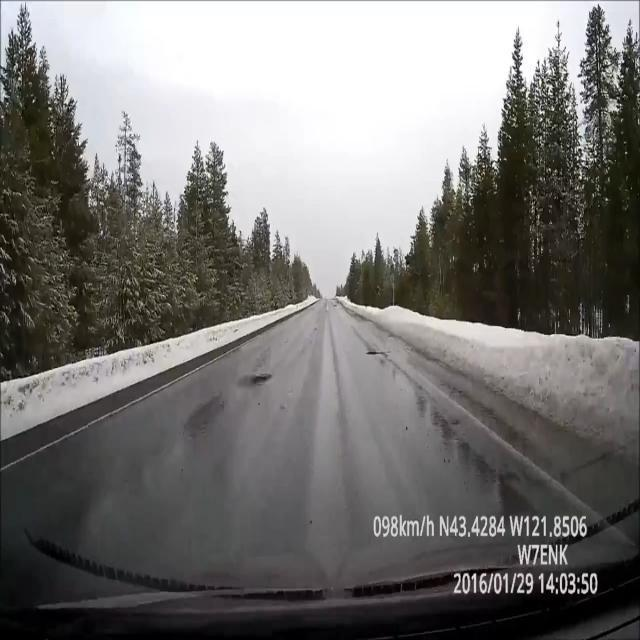pothole: (367, 343, 390, 371)
